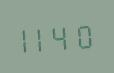four: (56, 20, 74, 51)
one: (18, 22, 36, 54), (37, 21, 55, 53)
zero: (75, 18, 93, 50)
